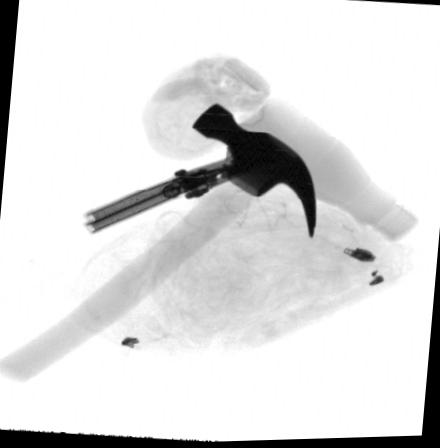Hammer: (0, 104, 318, 383)
Pliers: (82, 152, 261, 236)
